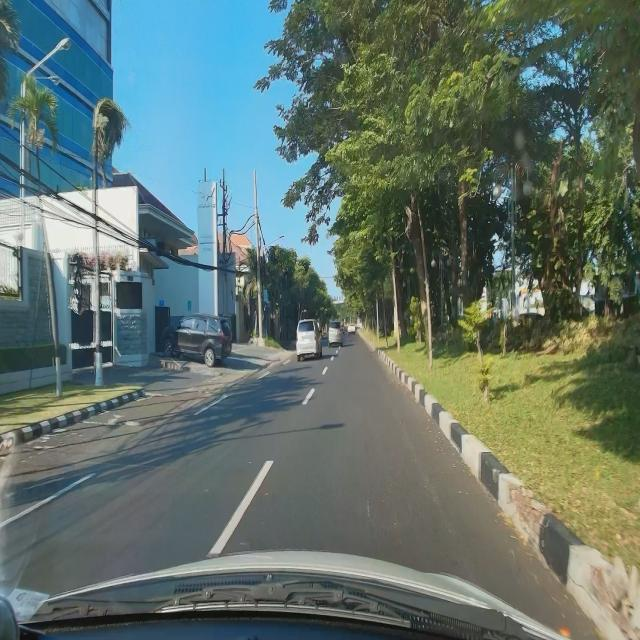car: (294, 318, 323, 363)
